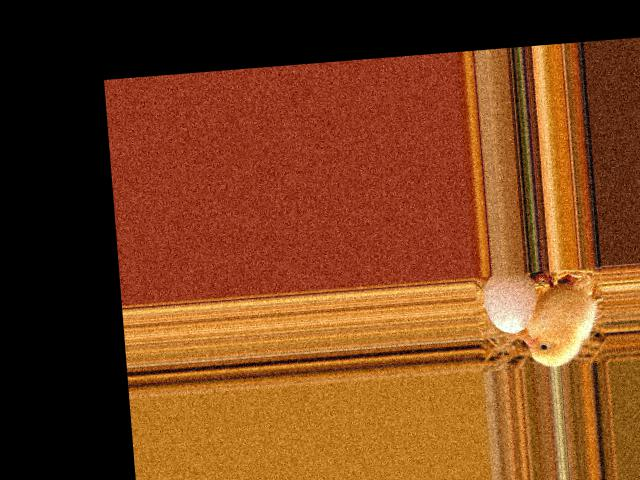egg: (482, 271, 539, 335)
